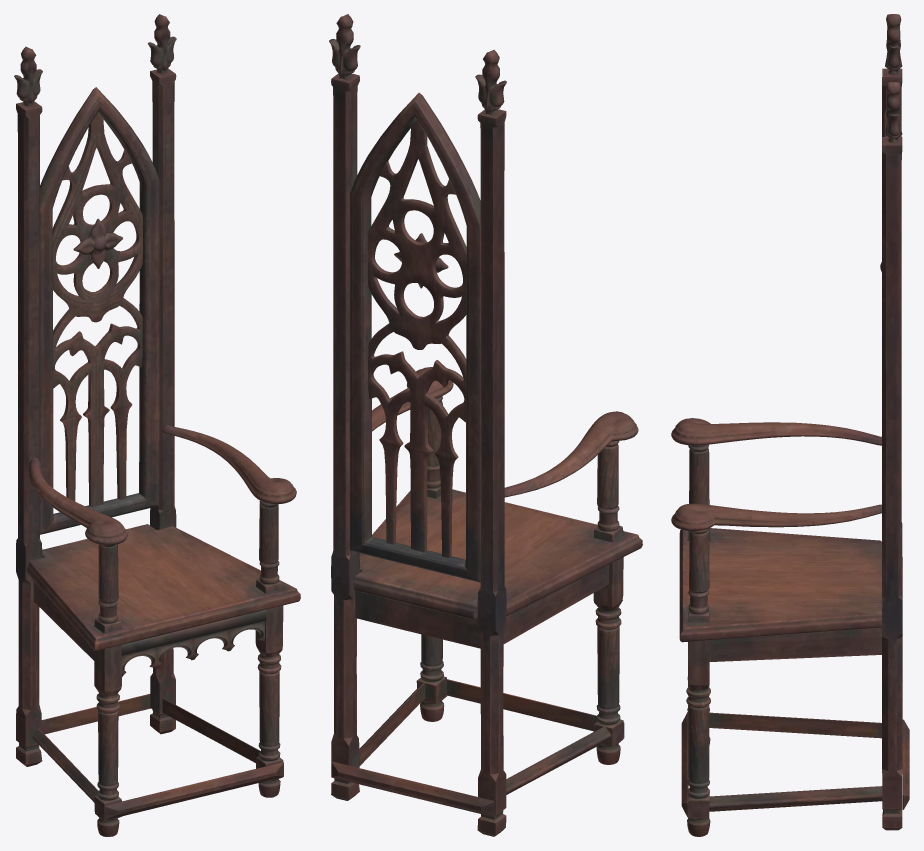
The model's file is WoodenChair_01.glb.
The picture shows the model from 3 angles, left to right: view 1: azimuth 30°, elevation 25°; view 2: azimuth 150°, elevation 25°; view 3: azimuth 270°, elevation 25°; orthographic projection. The views are drawn at different scales.
Parts seen in each view (by area): view 1: WoodenChair_01; view 2: WoodenChair_01; view 3: WoodenChair_01.
Boxes of the visible parts, x1,y1,x2,y2 form: WoodenChair_01: [14, 14, 300, 836]; WoodenChair_01: [329, 14, 642, 836]; WoodenChair_01: [671, 14, 909, 836].
Bounding box in the file's own units: 0.6881 × 2.27 × 0.6584.
1 material, 1 textured.
